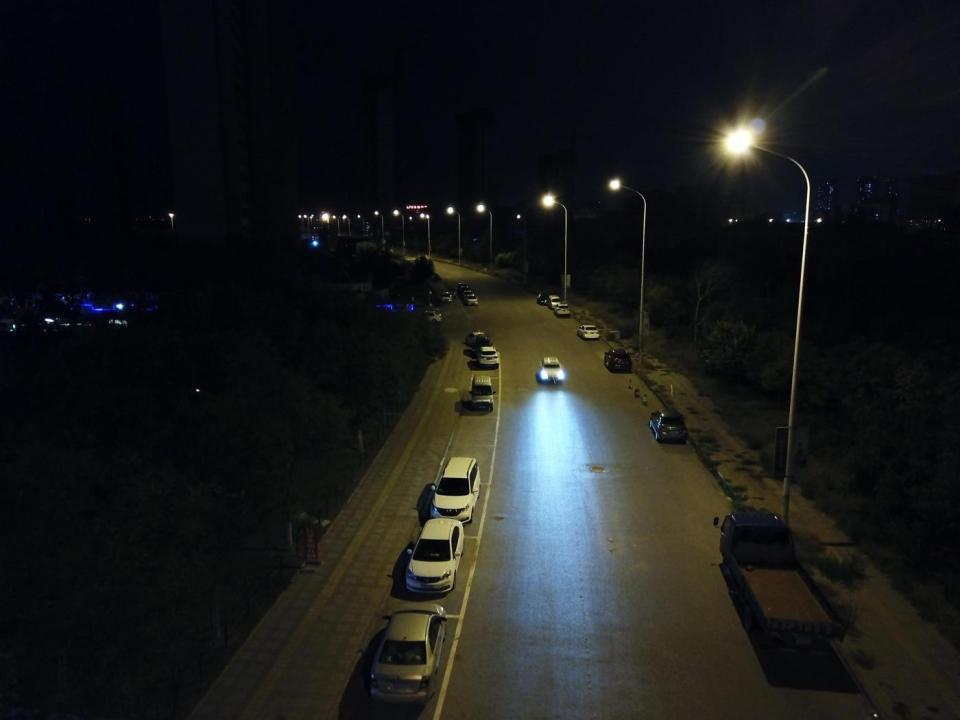car: (370, 602, 448, 704), (400, 516, 466, 598), (430, 455, 482, 525), (647, 406, 691, 446), (604, 345, 633, 374), (537, 354, 564, 384), (574, 320, 600, 341), (475, 346, 501, 367), (414, 308, 444, 324), (473, 334, 495, 352), (464, 332, 487, 348), (553, 302, 571, 318), (536, 292, 554, 307), (546, 295, 563, 309), (464, 294, 480, 307), (441, 291, 453, 304), (461, 290, 474, 300), (456, 282, 467, 293), (460, 286, 470, 295)
truck: (712, 505, 848, 646)
van: (467, 375, 496, 412)
